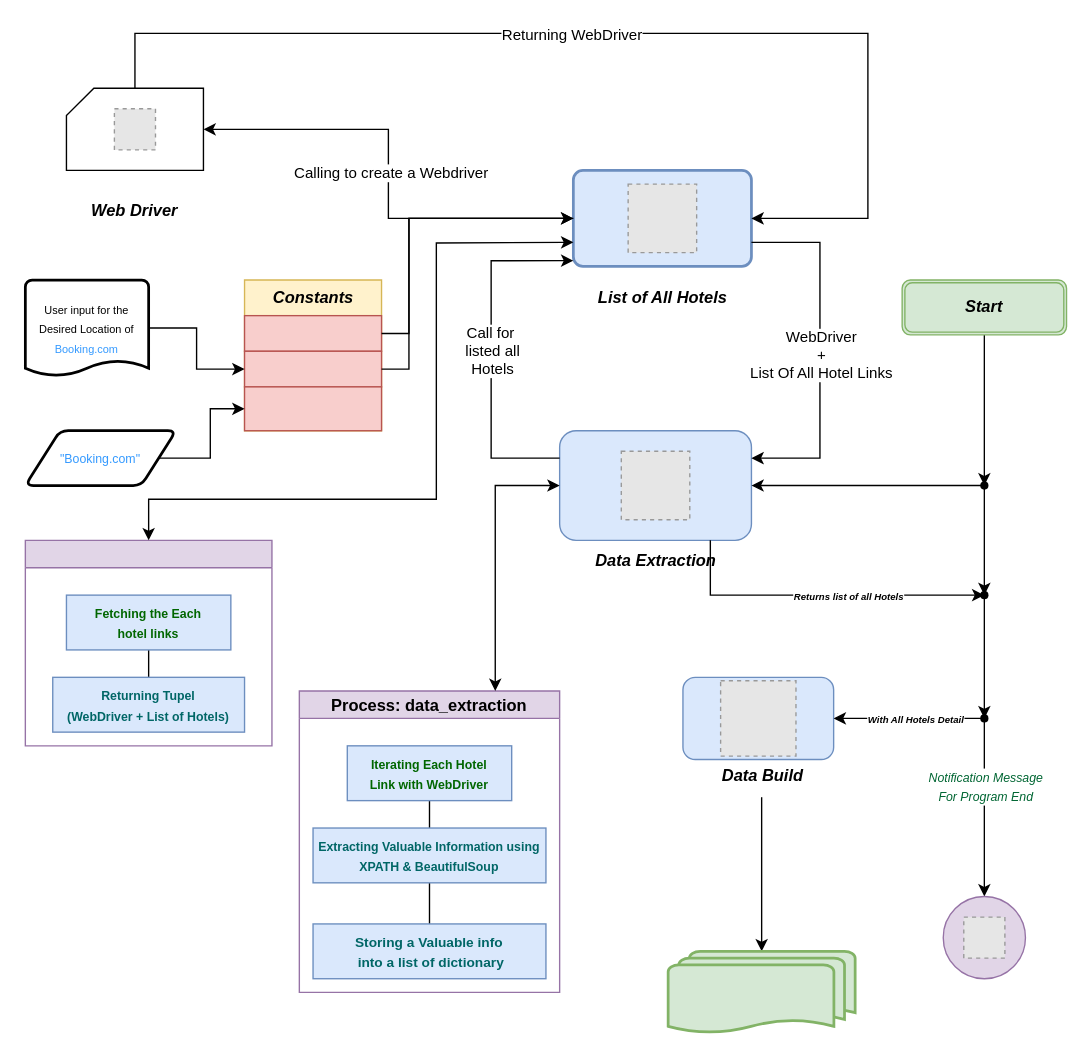
This 1091x1059 diagram has some shape labels left out. Grey dashed boxes stand in for pictures. The shapes that lost their labels are listed below. From the top down, each one's box as (x1, y1, x2, y2) in pixels, then its label:
(243, 314, 382, 351): OFFSET
(243, 350, 382, 387): URL
(243, 386, 382, 431): SITE
(24, 539, 272, 746): Process: all_listed_hotels
(666, 949, 856, 1034): Extracted JSON Data
